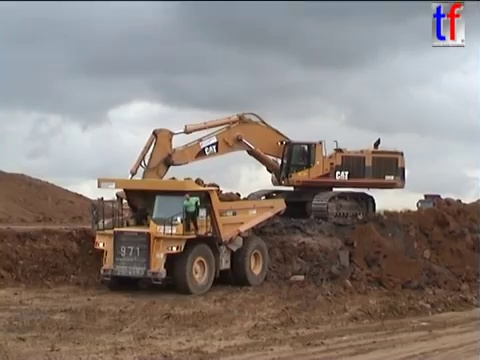excavator: (115, 110, 408, 236)
truck: (90, 176, 288, 296), (414, 192, 463, 218)
worker: (179, 191, 201, 234)
